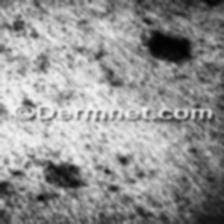Toxin: (148, 30, 198, 60)
